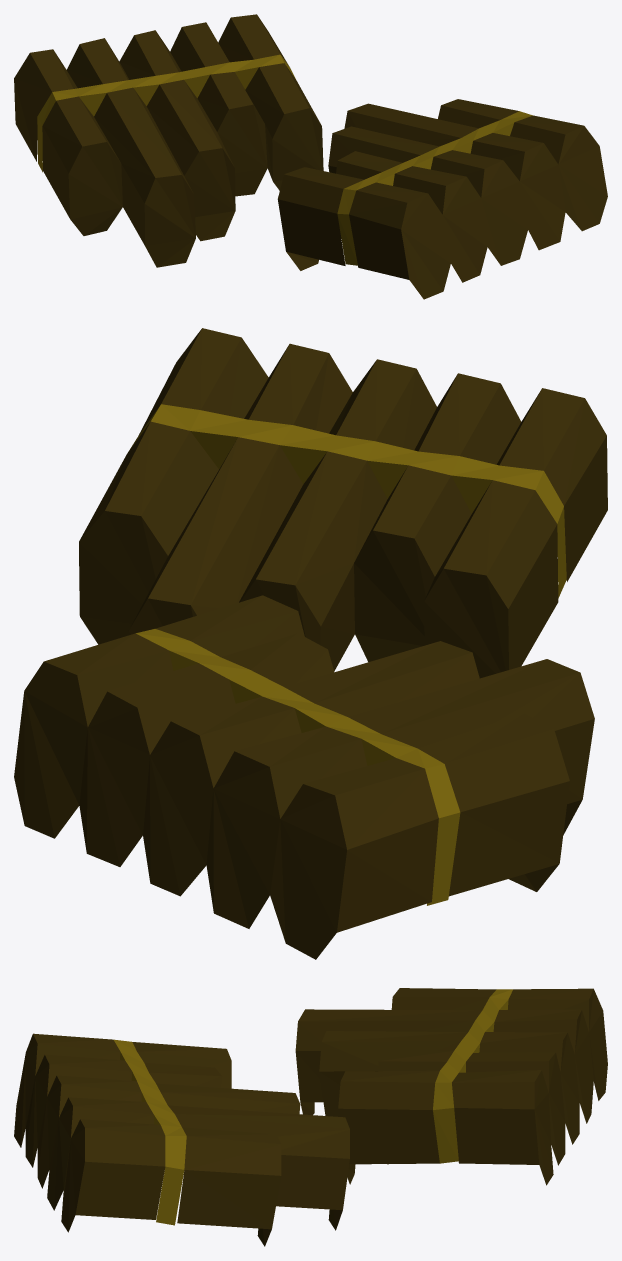
The model's file is obj_broken_log_raft_0.obj.
3 renders of one model, top to bottom at view 1: azimuth 30°, elevation 25°; view 2: azimuth 150°, elevation 25°; view 3: azimuth 270°, elevation 25°, orthographic. The views are drawn at different scales.
Bounding box in the file's own units: 1.57 × 0.5547 × 1.96.
